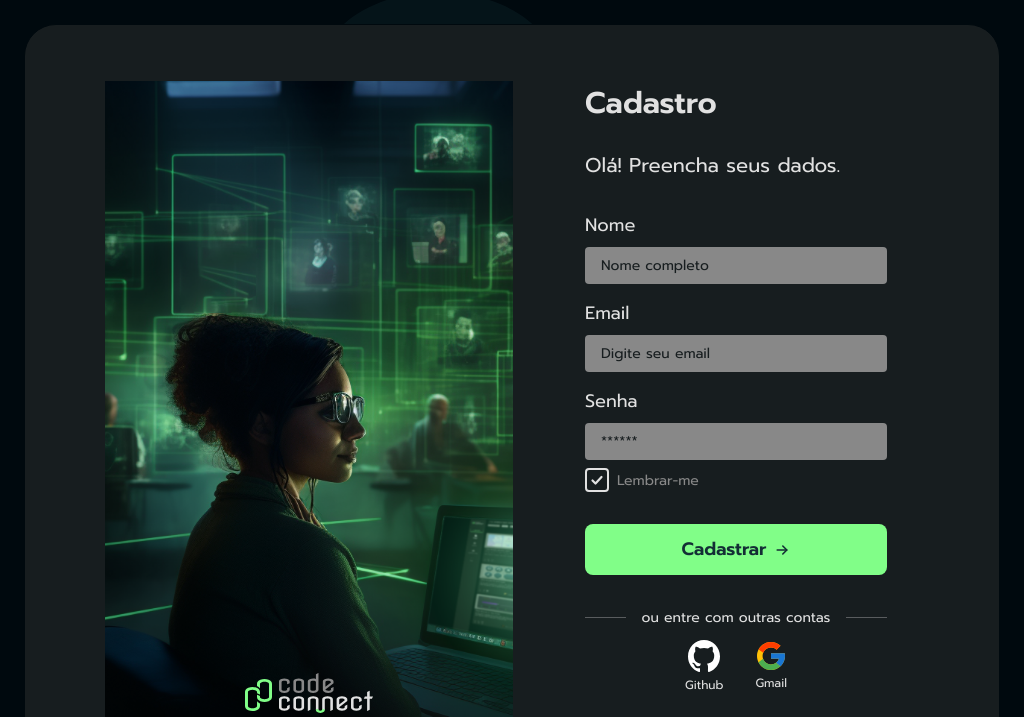
RegisterPage › displays conflict error message when email is already registered (409)
Type "Ada Lovelace" into the field labelled "Nome".
click(736, 266); type("Ada Lovelace")  # box left=585, top=247, right=887, bottom=284
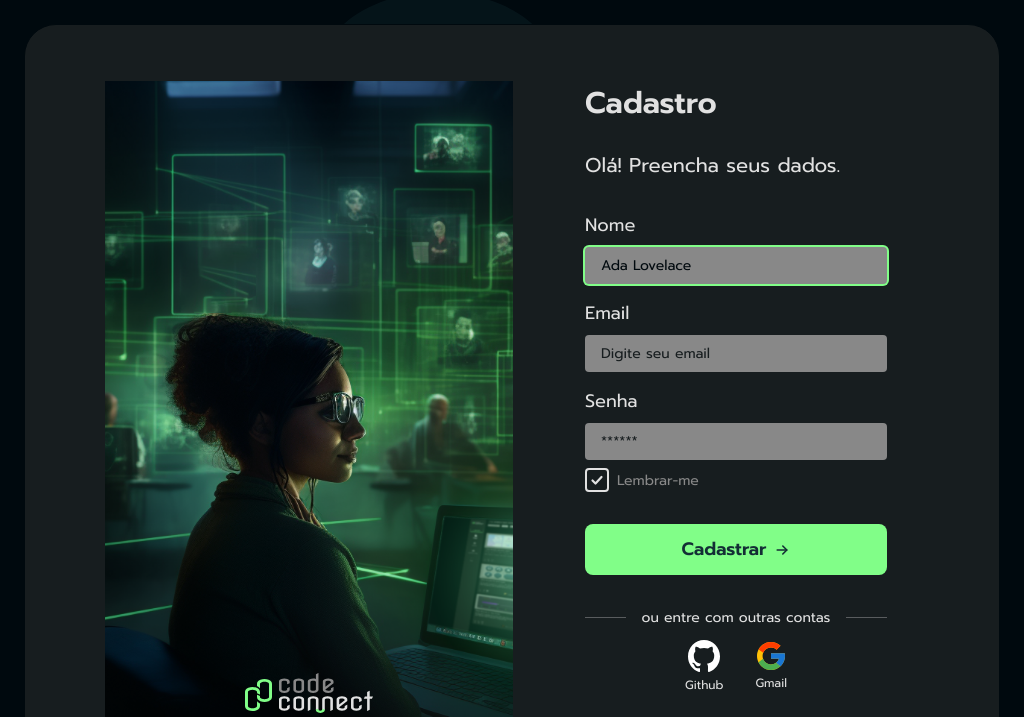
Type "ada@example.com" into the field labelled "Email".
click(736, 354); type("ada@example.com")  # box left=585, top=335, right=887, bottom=372
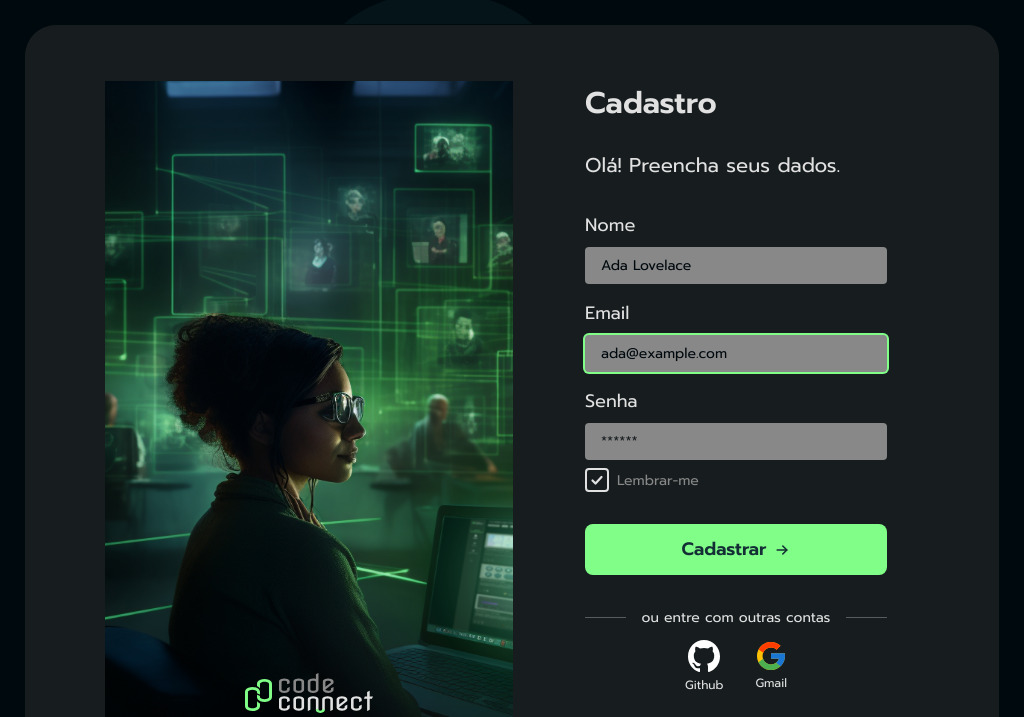
Type "secret123" into the password field labelled "Senha".
click(736, 442); type("secret123")  # box left=585, top=423, right=887, bottom=460
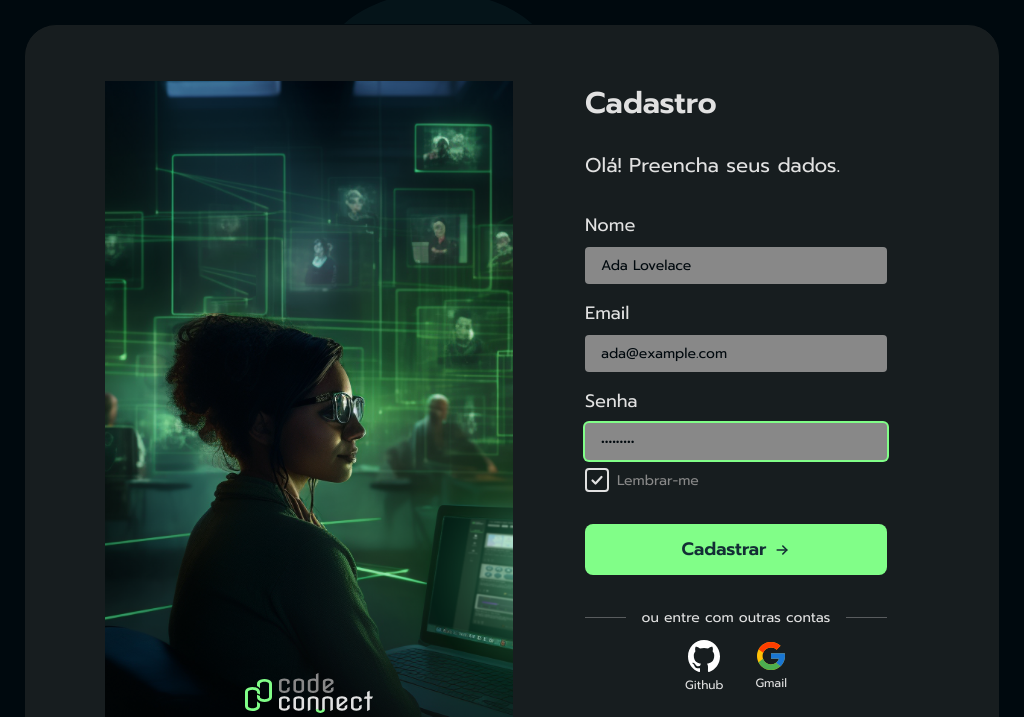
Click the button "Cadastrar".
click(736, 550)  # box left=585, top=524, right=887, bottom=575
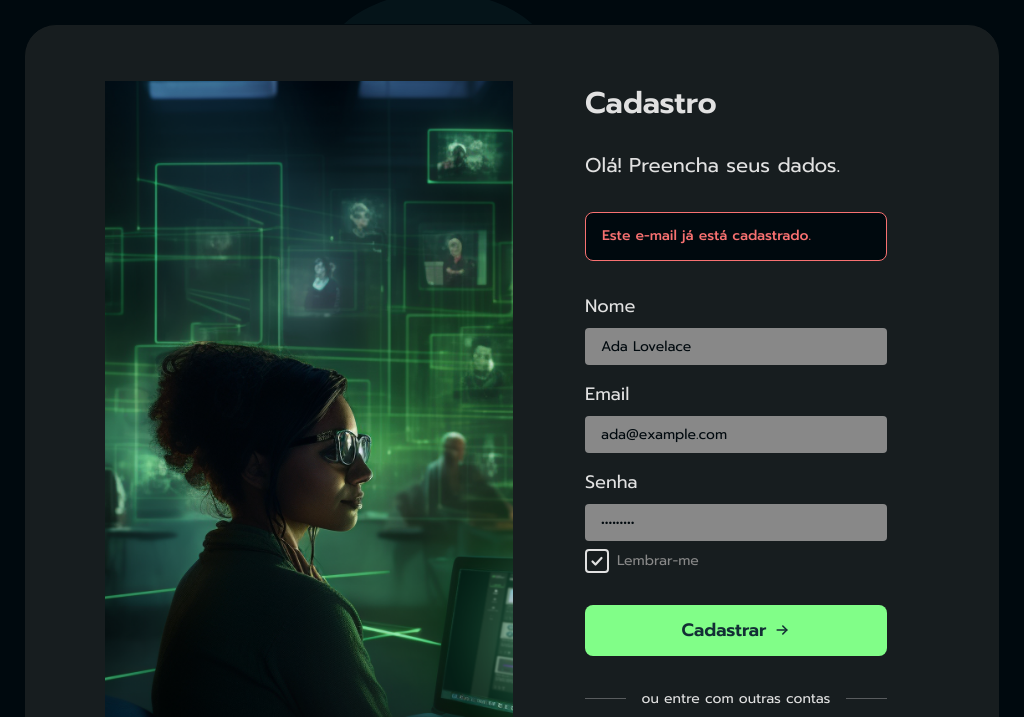
Expected: the message reads "Este e-mail já está cadastrado.", left=602, top=225, right=811, bottom=246
